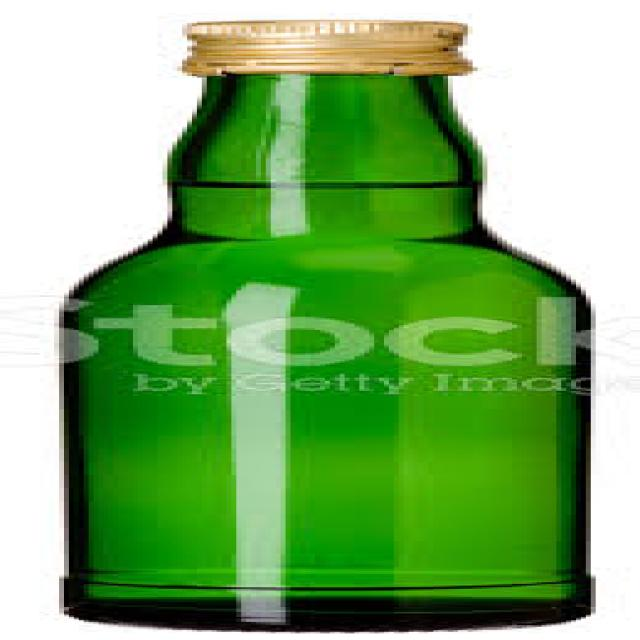glass: (59, 69, 591, 630)
metal: (177, 15, 473, 71)
